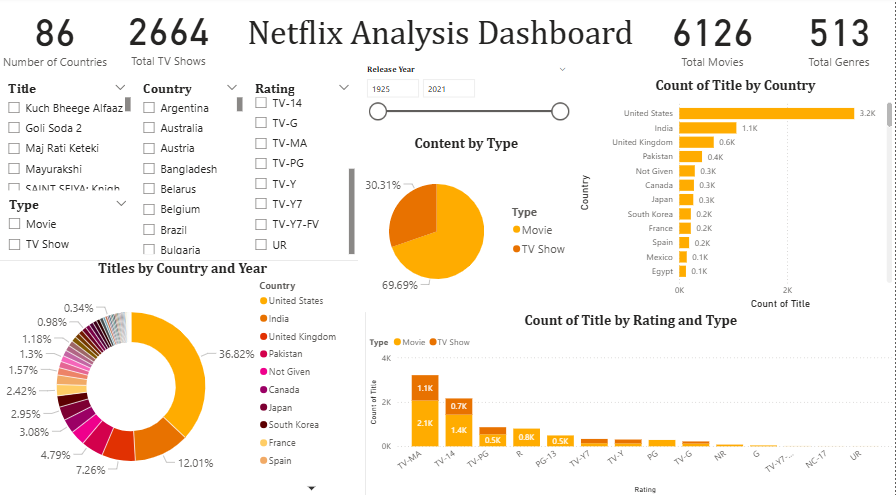

The page's visual inventory and layout, read from the dashboard file:
{"tool":"powerbi","page":{"name":"Page 1","canvas":[1280,720],"ordinal":0},"visuals":[{"type":"card","fields":{"Values":["Sheet1.Total Movies"]},"box":[938.9,0,161.3,119.5],"z":0},{"type":"card","fields":{"Values":["Sheet1.Total TV Shows"]},"box":[161.3,0,161.3,116.6],"z":1000},{"type":"card","fields":{"Values":["Sheet1.Number of Countries"]},"box":[0,0,159.8,119.5],"z":2000},{"type":"card","fields":{"Values":["Sheet1.Total Genres"]},"box":[1120.3,0,159.8,119.5],"z":3000},{"type":"barChart","fields":{"Y":["CountNonNull(Sheet1.title)"],"Category":["Sheet1.country"]},"box":[822.2,119.4,458.3,336.1],"z":4000},{"type":"columnChart","fields":{"Category":["Sheet1.rating"],"Y":["CountNonNull(Sheet1.title)"],"Series":["Sheet1.type"]},"box":[523.6,455.6,756.9,263.9],"z":5000},{"type":"donutChart","title":"Titles by Country and Year","fields":{"Category":["Sheet1.country"],"Y":["Sum(Sheet1.release_year)","Sheet1.Total Titles"]},"box":[0,381.4,524.3,338.6],"z":6000},{"type":"pieChart","title":"Content by Type","fields":{"Category":["Sheet1.type"],"Y":["Sheet1.Total Titles"]},"box":[512.5,202.8,309.7,252.8],"z":7000},{"type":"textbox","box":[321.1,21.6,617.8,72],"z":8000},{"type":"slicer","fields":{"Values":["Sheet1.country"]},"box":[193.1,119.4,159.7,258.3],"z":8001},{"type":"slicer","fields":{"Values":["Sheet1.Title"]},"box":[0,119.4,193.1,166.7],"z":8002},{"type":"slicer","fields":{"Values":["Sheet1.release_year"]},"box":[512.9,97.1,310,100],"z":8003},{"type":"slicer","fields":{"Values":["Sheet1.rating"]},"box":[352.8,119.4,159.7,258.3],"z":8004},{"type":"slicer","fields":{"Values":["Sheet1.Type"]},"box":[1.4,286.1,193.1,91.7],"z":8005}]}

Visuals, with their boxes in screenshot pixels (x1, y1, x2, y2), scaled from the page's 1280x720 canvas onto the 896x495 screenshot:
card - Sheet1.Total Movies: l=657, t=0, r=770, b=82
card - Sheet1.Total TV Shows: l=113, t=0, r=226, b=80
card - Sheet1.Number of Countries: l=0, t=0, r=112, b=82
card - Sheet1.Total Genres: l=784, t=0, r=895, b=82
barChart - CountNonNull(Sheet1.title) x Sheet1.country: l=576, t=82, r=895, b=313
columnChart - Sheet1.rating x CountNonNull(Sheet1.title): l=367, t=313, r=895, b=494
"Titles by Country and Year" donutChart: l=0, t=262, r=367, b=494
"Content by Type" pieChart: l=359, t=139, r=576, b=313
textbox: l=225, t=15, r=657, b=64
slicer - Sheet1.country: l=135, t=82, r=247, b=260
slicer - Sheet1.Title: l=0, t=82, r=135, b=197
slicer - Sheet1.release_year: l=359, t=67, r=576, b=136
slicer - Sheet1.rating: l=247, t=82, r=359, b=260
slicer - Sheet1.Type: l=1, t=197, r=136, b=260
